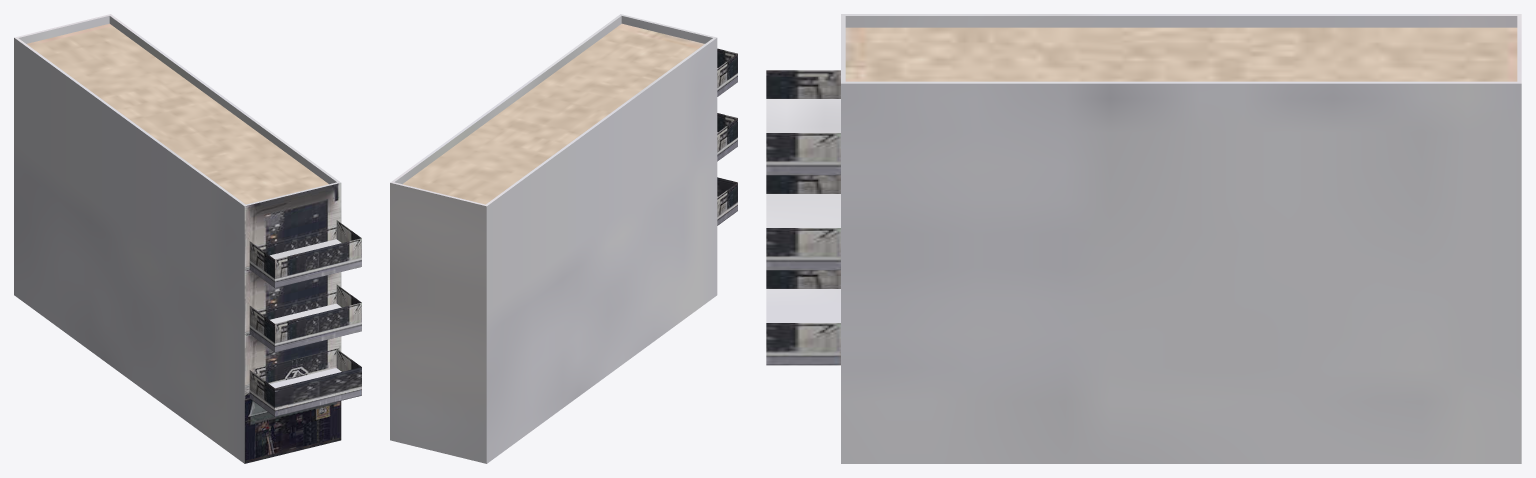
3 renders of one model, left to right at view 1: azimuth 30°, elevation 25°; view 2: azimuth 150°, elevation 25°; view 3: azimuth 270°, elevation 25°, orthographic. The views are drawn at different scales.
Visible parts, largest first — view 1: 5dad357993802723bce1ab66.001; view 2: 5dad357993802723bce1ab66.001; view 3: 5dad357993802723bce1ab66.001.
Boxes of the visible parts, x1,y1,x2,y2 form: 5dad357993802723bce1ab66.001: [14, 14, 361, 463]; 5dad357993802723bce1ab66.001: [390, 14, 737, 463]; 5dad357993802723bce1ab66.001: [766, 14, 1521, 463].
Bounding box in the file's own units: 5.5 × 14 × 25.21.
1 material, 1 textured.
